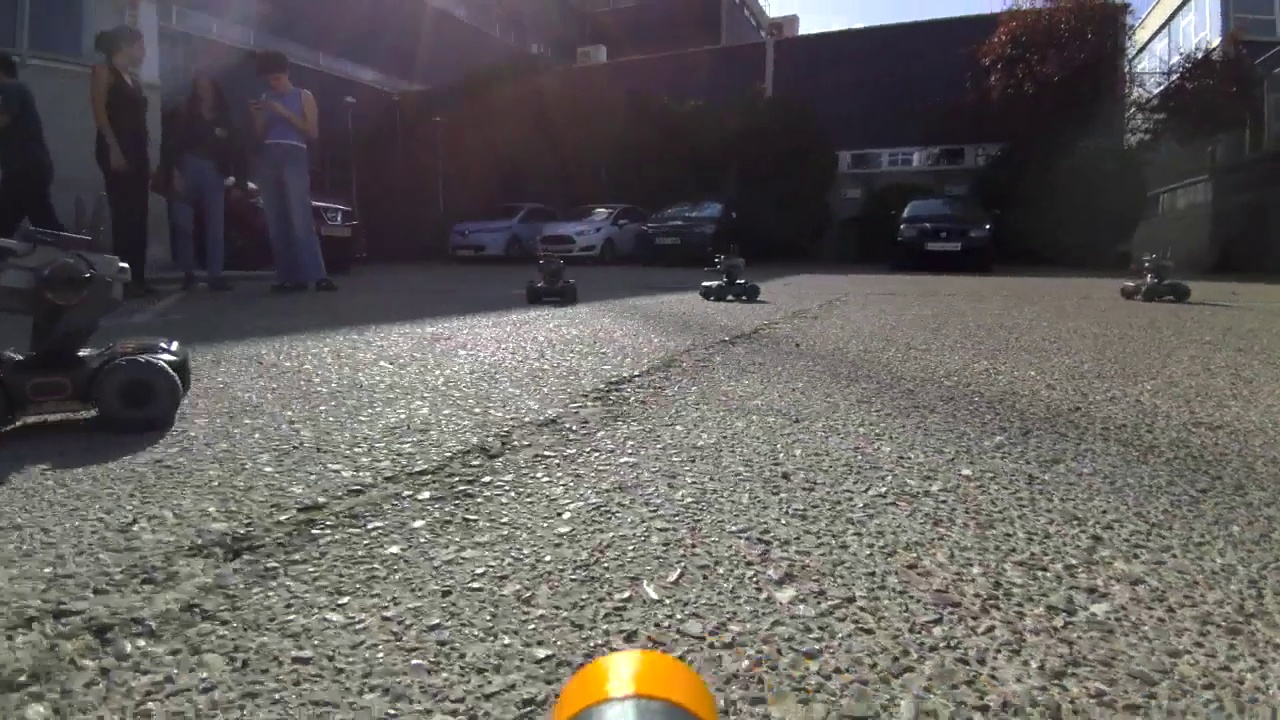robot: (2, 208, 201, 452), (1116, 246, 1193, 303), (697, 246, 763, 303), (523, 250, 585, 308)
